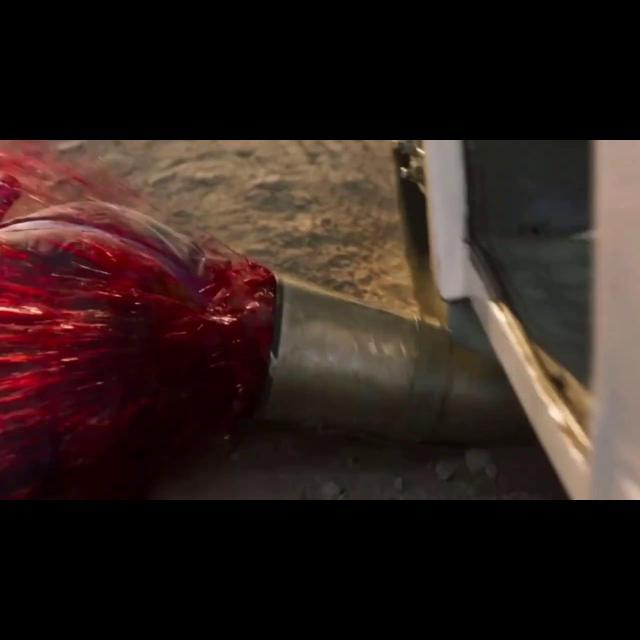blood: (0, 142, 276, 498)
